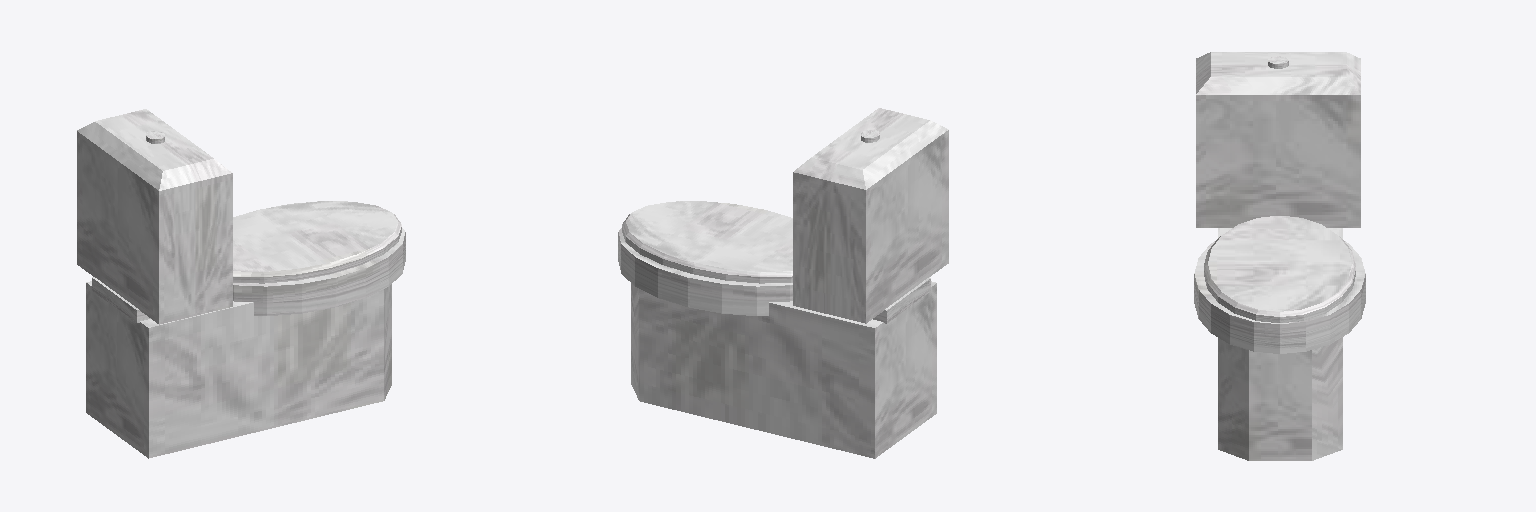
3 renders of one model, left to right at view 1: azimuth 30°, elevation 25°; view 2: azimuth 150°, elevation 25°; view 3: azimuth 270°, elevation 25°, orthographic.
Visible parts, largest first — view 1: pCube4; view 2: pCube4; view 3: pCube4.
Boxes of the visible parts, x1=… form: pCube4: x1=77, y1=109, x2=405, y2=458; pCube4: x1=618, y1=108, x2=948, y2=458; pCube4: x1=1194, y1=52, x2=1365, y2=460.
Bounding box in the file's own units: 4.11 × 4.06 × 2.16.
1 materials, 1 textured.